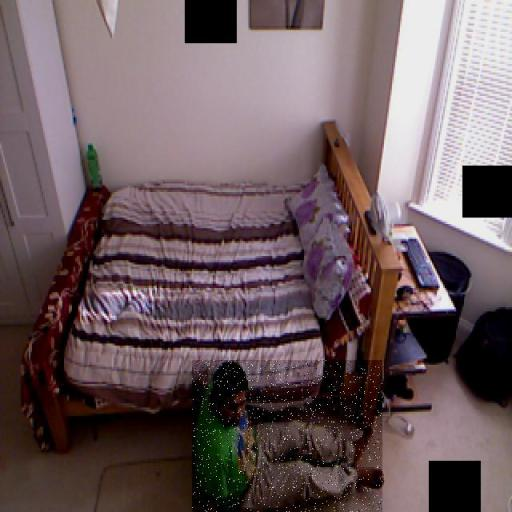Fall: (192, 360, 382, 512)
